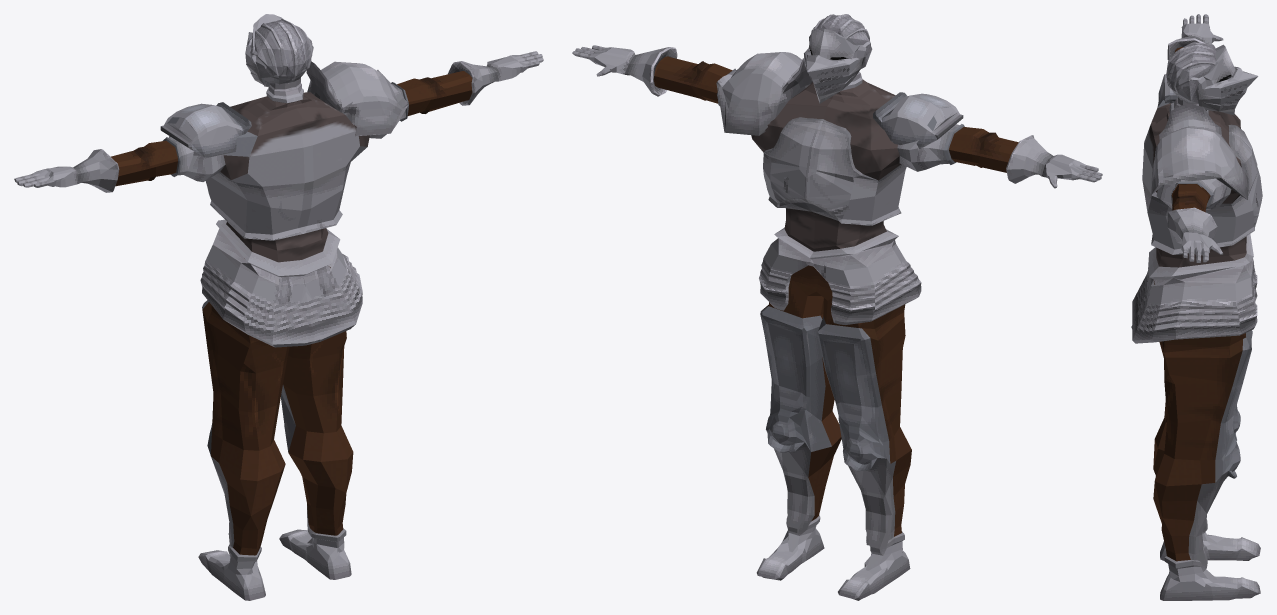
Rendered from maleanims.glb.
3 views of the same model, side by side, from view 1: azimuth 30°, elevation 25°; view 2: azimuth 150°, elevation 25°; view 3: azimuth 270°, elevation 25° (orthographic). The views are drawn at different scales.
Visible parts, largest first — view 1: flutedChest, flutedLegs, flutedHead, flutedHands; view 2: flutedChest, flutedLegs, flutedHands, flutedHead; view 3: flutedChest, flutedLegs, flutedHead, flutedHands.
Part boxes in pixels (x1,y1,x2,y2): flutedChest: [111, 61, 472, 347]; flutedLegs: [198, 258, 353, 600]; flutedHead: [245, 14, 313, 103]; flutedHands: [14, 51, 543, 192]; flutedChest: [653, 52, 1018, 324]; flutedLegs: [756, 244, 911, 600]; flutedHands: [572, 45, 1102, 188]; flutedHead: [804, 14, 872, 103]; flutedChest: [1131, 47, 1262, 343]; flutedLegs: [1153, 278, 1260, 600]; flutedHead: [1166, 42, 1258, 115]; flutedHands: [1167, 14, 1223, 262].
Bounding box in the file's own units: 5.12 × 5.16 × 1.16.
Materials: 15 (14 with a texture image).
